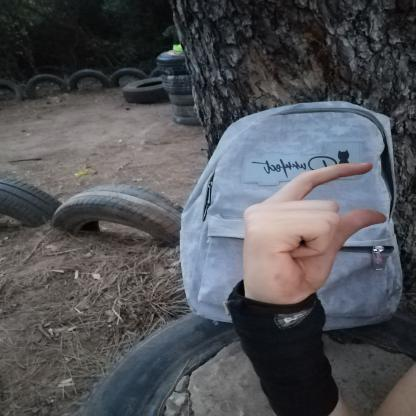DELL: (228, 150, 397, 320)
